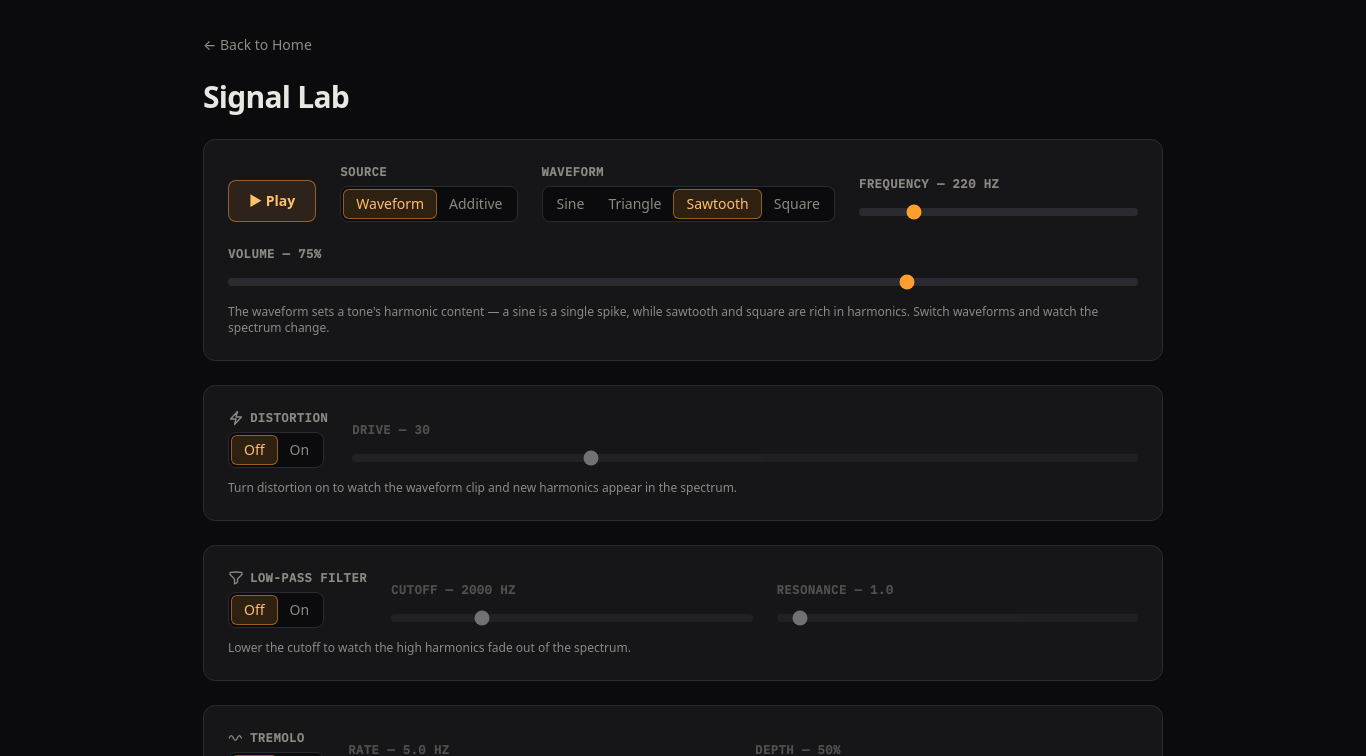
Test: SignalLab › waveform radiogroup disabled in additive mode › waveform radio buttons are re-enabled when switching back to Waveform mode
Click the radio button labelled "Additive" at [476, 204], box [437, 189, 515, 219]
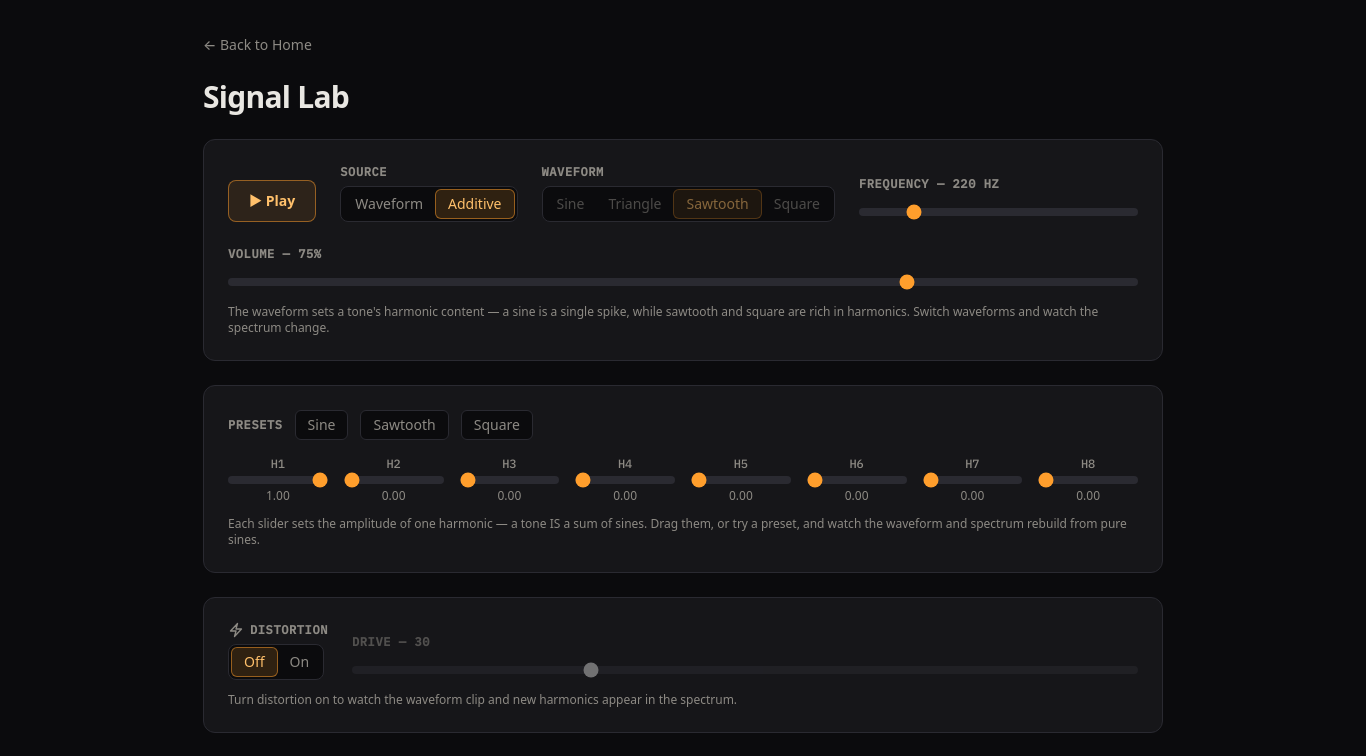
Click the radio button labelled "Waveform" at [389, 204], box [343, 189, 435, 219]
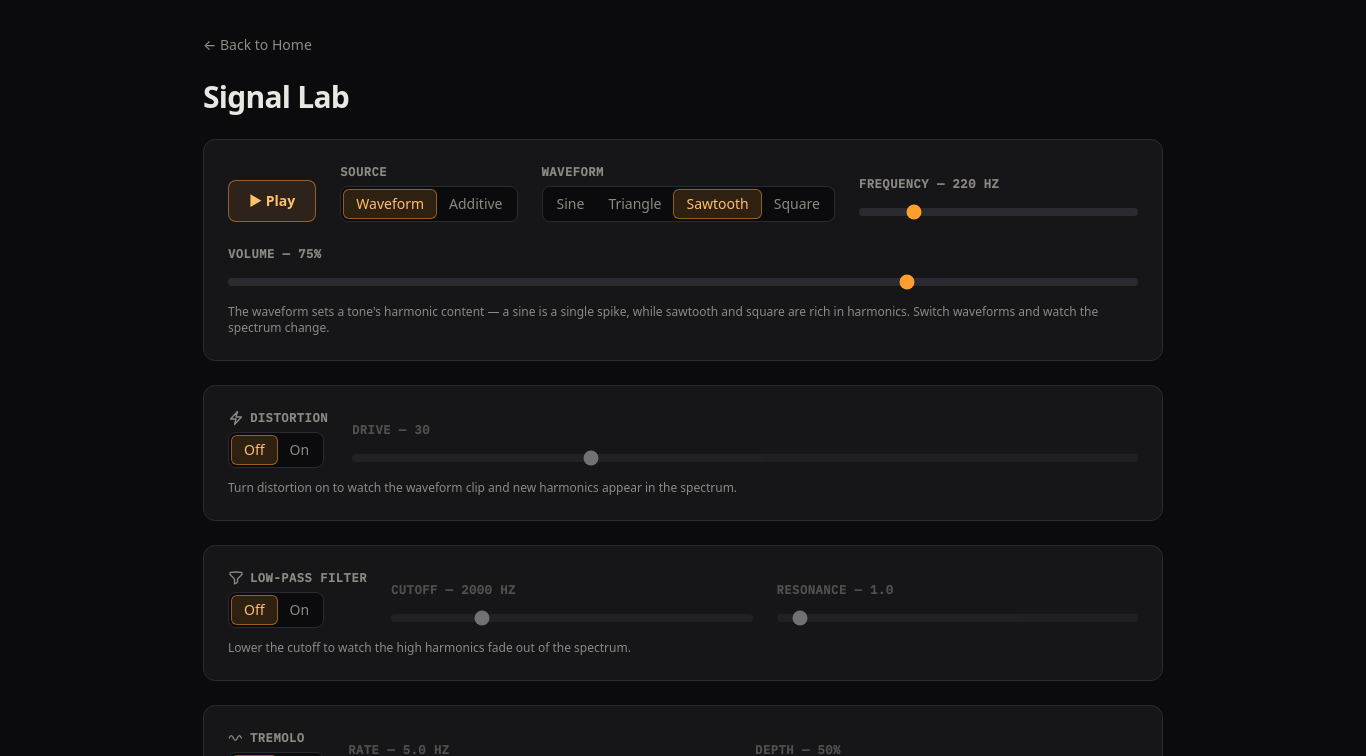
Expected: the radio button labelled "sine" is enabled, [544, 189, 596, 219]
Expected: the radio button labelled "triangle" is enabled, [596, 189, 674, 219]
Expected: the radio button labelled "sawtooth" is enabled, [674, 189, 762, 219]
